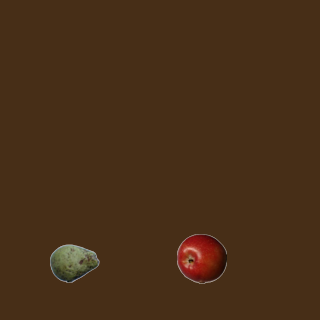Apple Braeburn: (176, 233, 226, 283)
Pear Stone: (49, 238, 99, 288)
